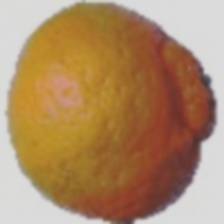tangerine: (20, 5, 207, 182)
